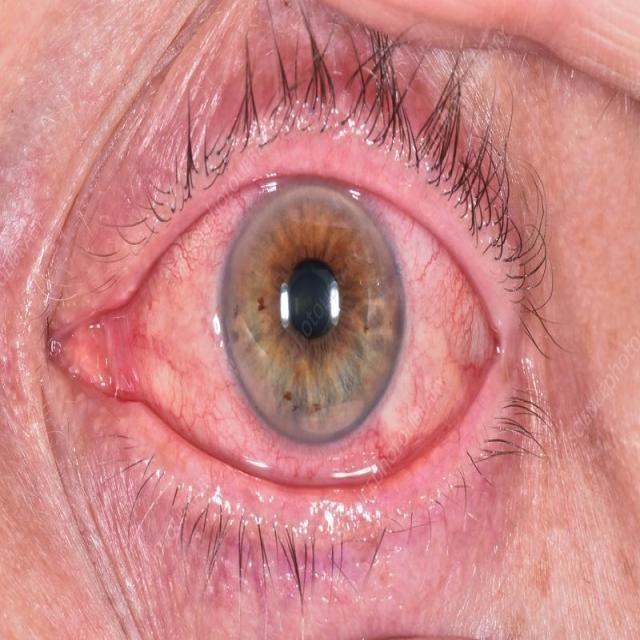Conjunctivitis: (51, 180, 512, 498)
